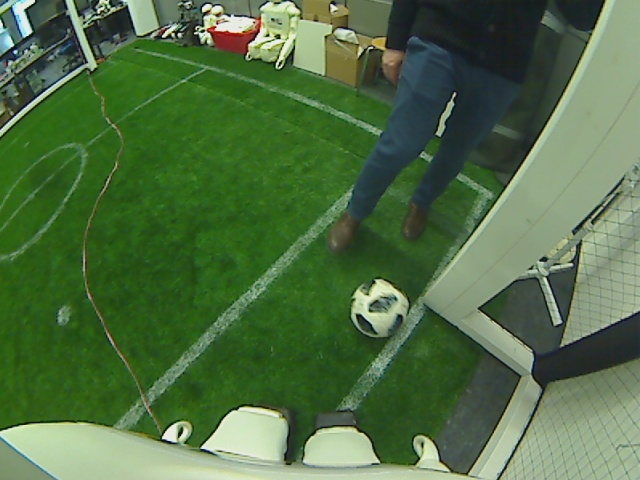ball: (347, 276, 410, 340)
